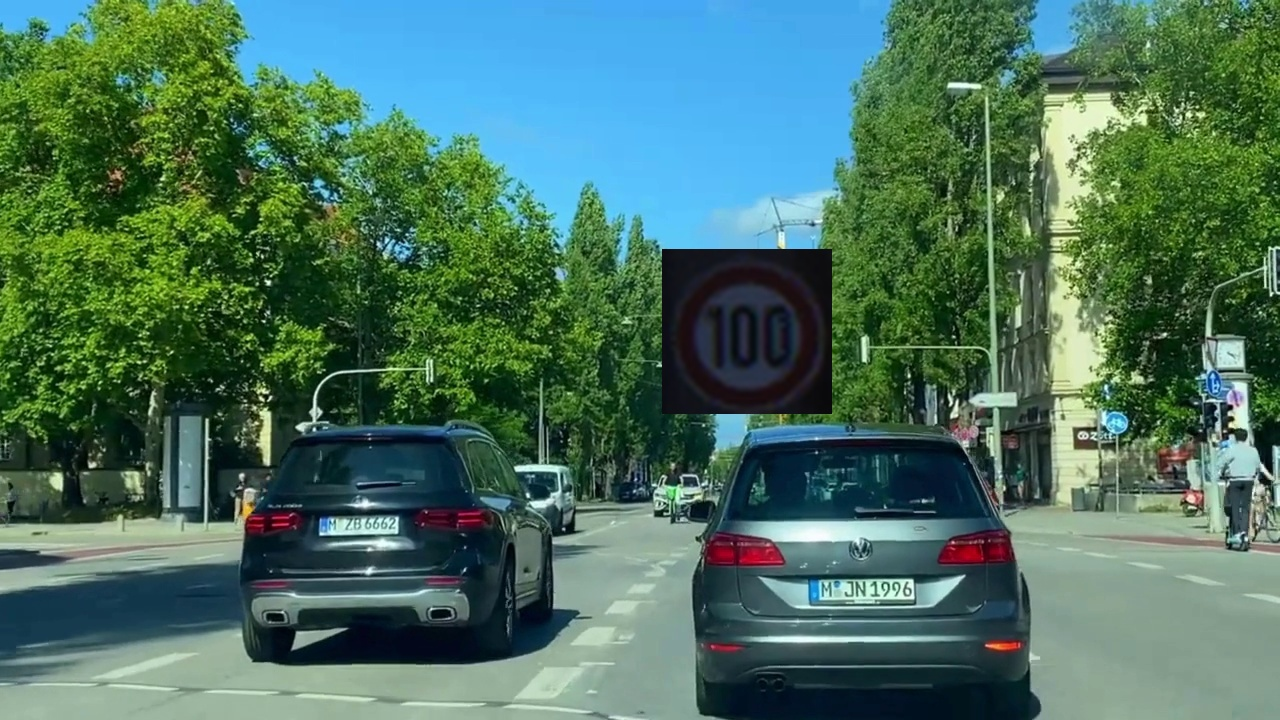Speed 100: (662, 249, 832, 414)
